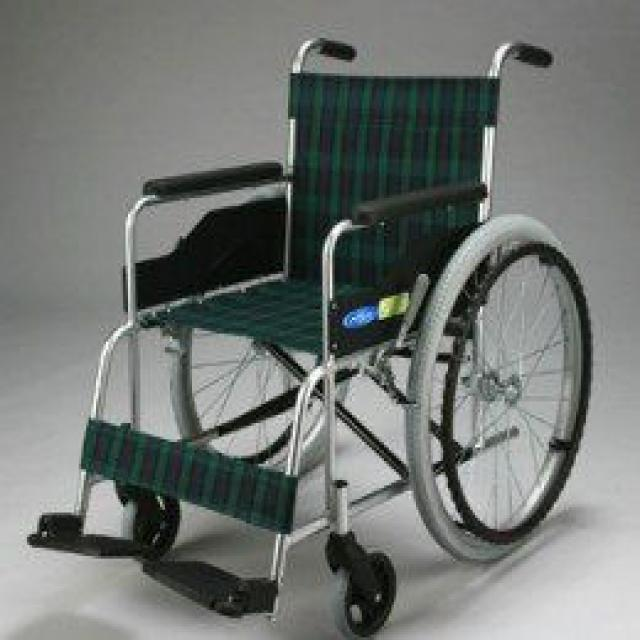wheelchairs: (31, 35, 590, 640)
